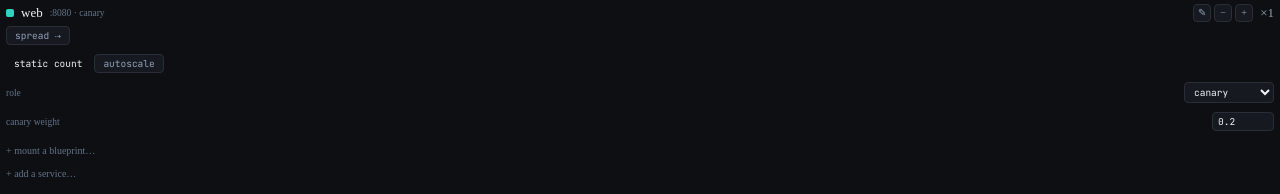
ServicesDrawer — authoring role (Wave 5 Task 14b) › switching role away from canary clears canaryWeight (mirrors AutoscaleControl dropping autoscale on mode switch)
Select "replica" in the dropdown labelled "role" at (1229, 92), box x1=1184 y1=82 x2=1274 y2=103
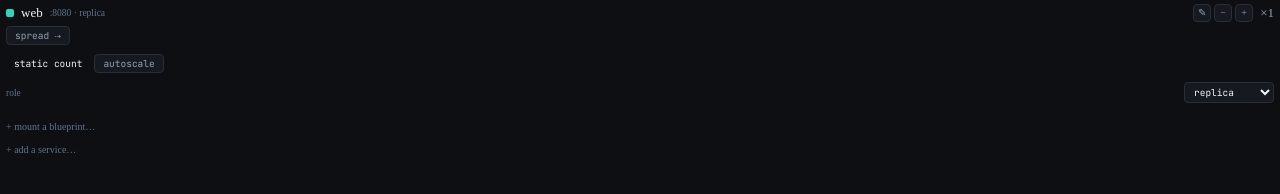
Check: the label labelled "canary weight" is gone
